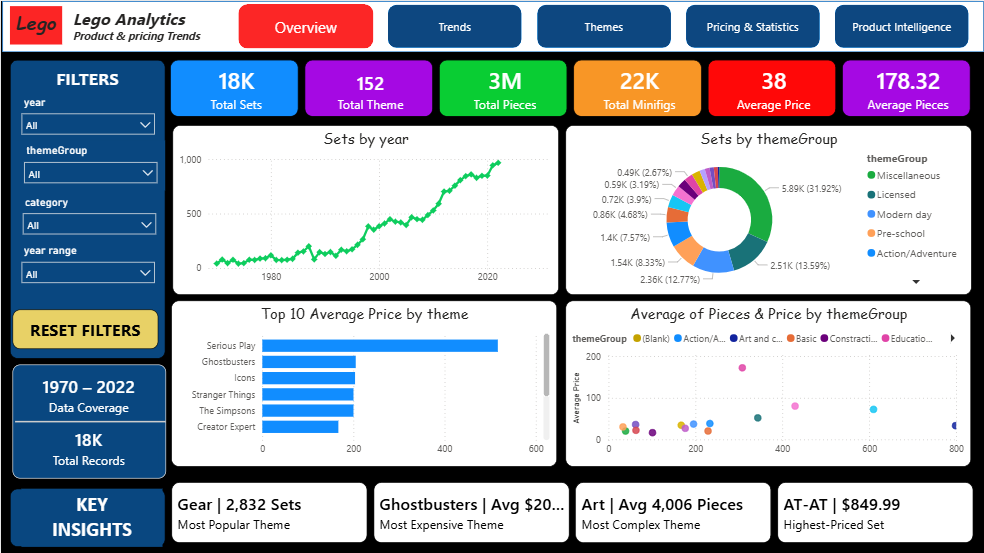

The page's visual inventory and layout, read from the dashboard file:
{"tool":"powerbi","page":{"name":"Overview","canvas":[1280,720],"ordinal":0},"visuals":[{"type":"shape","box":[1.7,0,1278.3,66.7],"z":0},{"type":"shape","box":[12.3,76,202.3,388.7],"z":1000},{"type":"cardVisual","fields":{"Data":["lego_sets.Total Sets","lego_sets.Total Theme","lego_sets.Total Pieces","lego_sets.Total Minifigs","lego_sets.Average Price","lego_sets.Average Pieces"]},"box":[213.3,71.7,1056.7,85],"z":2000},{"type":"lineChart","title":"Sets by year","fields":{"Category":["lego_sets.year"],"Y":["CountNonNull(lego_sets.set_id)"]},"box":[222.9,161.4,502.8,221.4],"z":3000},{"type":"donutChart","title":" Sets by themeGroup","fields":{"Category":["lego_sets.themeGroup"],"Y":["CountNonNull(lego_sets.set_id)"]},"box":[734.3,161.4,528.6,221.4],"z":4000},{"type":"barChart","title":" Top 10 Average Price by theme","fields":{"Y":["lego_sets.Average Price"],"Category":["lego_sets.theme"]},"box":[222,390.3,502.1,216.2],"z":5000},{"type":"scatterChart","title":"Average  of Pieces & Price by themeGroup","fields":{"X":["lego_sets.Average Pieces"],"Y":["lego_sets.Average Price"],"Series":["lego_sets.themeGroup"]},"box":[734.2,390.3,528.2,216.2],"z":6000},{"type":"slicer","fields":{"Values":["lego_sets.year"]},"box":[17.2,117.7,193.7,63.8],"z":7000},{"type":"slicer","fields":{"Values":["lego_sets.themeGroup"]},"box":[19.6,181.5,193.7,65],"z":8000},{"type":"slicer","fields":{"Values":["lego_sets.category"]},"box":[18.4,247.7,193.7,63.8],"z":9000},{"type":"slicer","fields":{"Values":["lego_sets.year"]},"box":[17.2,311.5,193.7,82.1],"z":10000},{"type":"textbox","box":[17.2,78.5,192.5,45.4],"z":11000},{"type":"shape","box":[12.3,635.2,202.3,76],"z":12000},{"type":"actionButton","title":"RESET FILTRRS","box":[14.7,401,190.1,51.5],"z":13000},{"type":"cardVisual","fields":{"Data":["lego_sets.Most Popular Theme","lego_sets.Most Expensive Theme","lego_sets.Most Complex Theme","lego_sets.Highest-Priced Set"]},"box":[214.6,621.7,1059.5,89.5],"z":14000},{"type":"textbox","box":[27,635.2,183.9,76],"z":15000},{"type":"cardVisual","fields":{"Data":["lego_sets.Data Coverage","lego_sets.Total Records"]},"box":[14.7,473.3,199.9,148.4],"z":16000},{"type":"shape","box":[18.4,483.1,196.2,128.8],"z":17000},{"type":"pageNavigator","box":[305,0,963.3,66.7],"z":18000},{"type":"textbox","box":[88.3,3.3,205,60],"z":19000},{"type":"textbox","box":[11.7,6.7,68.3,50],"z":20000}]}

Visuals, with their boxes in screenshot pixels (x1, y1, x2, y2), scaled from the page's 1280x720 canvas onto the 984x553 screenshot:
shape: locate(1, 0, 983, 51)
shape: locate(9, 58, 165, 357)
cardVisual - lego_sets.Total Sets x lego_sets.Total Theme: locate(164, 55, 976, 120)
"Sets by year" lineChart: locate(171, 124, 558, 294)
" Sets by themeGroup" donutChart: locate(564, 124, 971, 294)
" Top 10 Average Price by theme" barChart: locate(171, 300, 557, 466)
"Average  of Pieces & Price by themeGroup" scatterChart: locate(564, 300, 970, 466)
slicer - lego_sets.year: locate(13, 90, 162, 139)
slicer - lego_sets.themeGroup: locate(15, 139, 164, 189)
slicer - lego_sets.category: locate(14, 190, 163, 239)
slicer - lego_sets.year: locate(13, 239, 162, 302)
textbox: locate(13, 60, 161, 95)
shape: locate(9, 488, 165, 546)
"RESET FILTRRS" actionButton: locate(11, 308, 157, 348)
cardVisual - lego_sets.Most Popular Theme x lego_sets.Most Expensive Theme: locate(165, 478, 979, 546)
textbox: locate(21, 488, 162, 546)
cardVisual - lego_sets.Data Coverage x lego_sets.Total Records: locate(11, 364, 165, 478)
shape: locate(14, 371, 165, 470)
pageNavigator: locate(234, 0, 975, 51)
textbox: locate(68, 3, 225, 49)
textbox: locate(9, 5, 62, 44)
